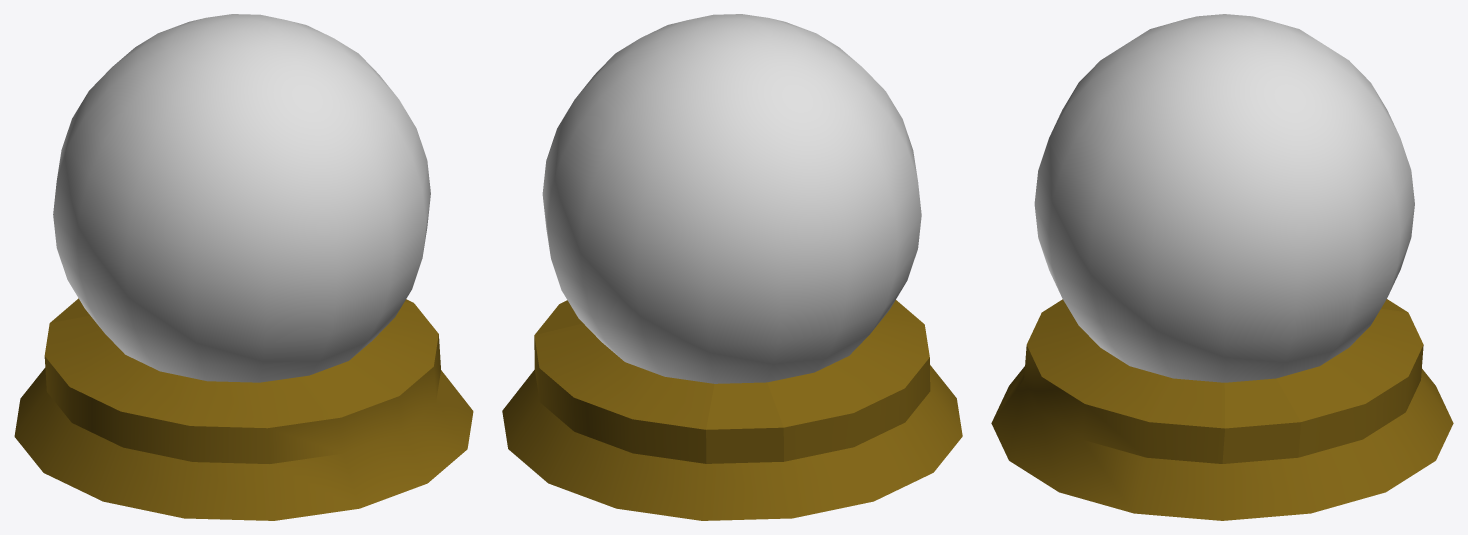
The model's file is crystalBall.fbx.
3 views of the same model, side by side, from view 1: azimuth 30°, elevation 25°; view 2: azimuth 150°, elevation 25°; view 3: azimuth 270°, elevation 25° (orthographic).
Visible parts, largest first — view 1: Crystal Ball; view 2: Crystal Ball; view 3: Crystal Ball.
Part boxes in pixels (x1=…): Crystal Ball: x1=14, y1=14, x2=473, y2=520; Crystal Ball: x1=502, y1=14, x2=962, y2=520; Crystal Ball: x1=991, y1=14, x2=1453, y2=520.
Bounding box in the file's own units: 29.24 × 29.24 × 27.31.
